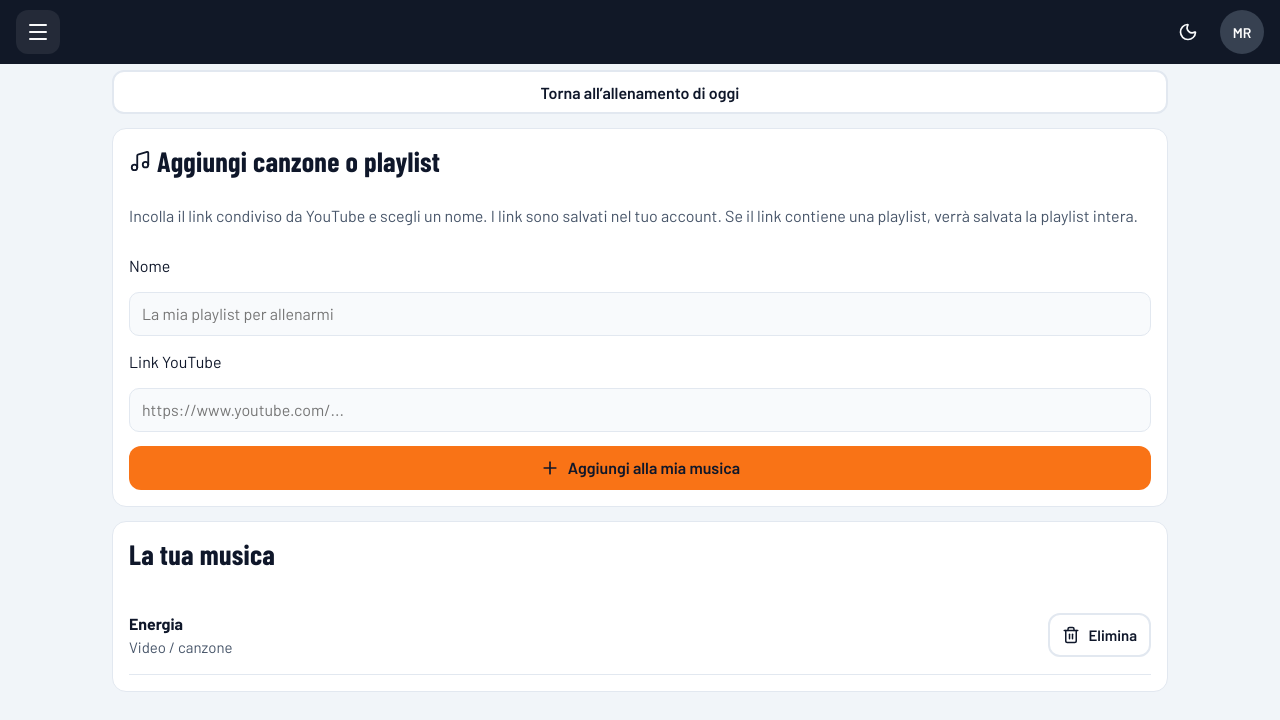
Test: Musica › shows a failed deletion inside the confirmation dialog
This screenshot has width=1280, height=720.
(page scrolled)
Click the button with aria-label "Elimina Energia".
click(1100, 635)  # box left=1048, top=613, right=1151, bottom=657
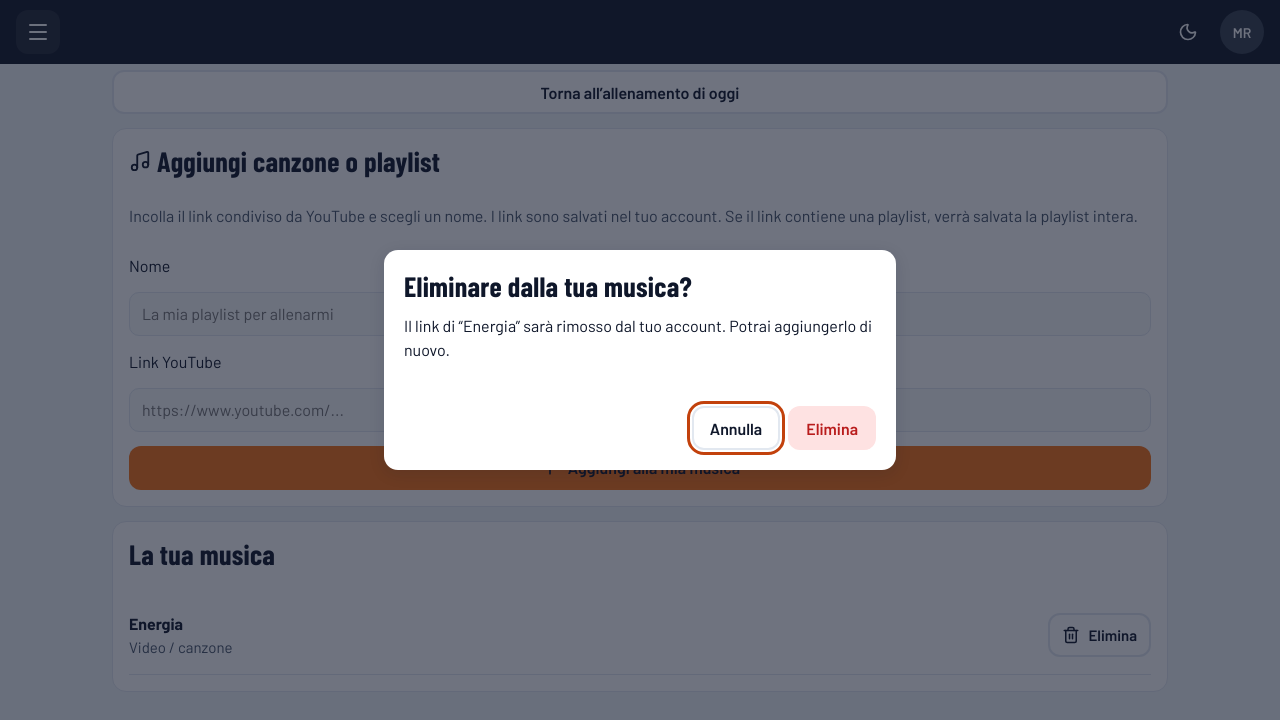
Click the button "Elimina".
click(832, 428)  # box left=788, top=406, right=876, bottom=450
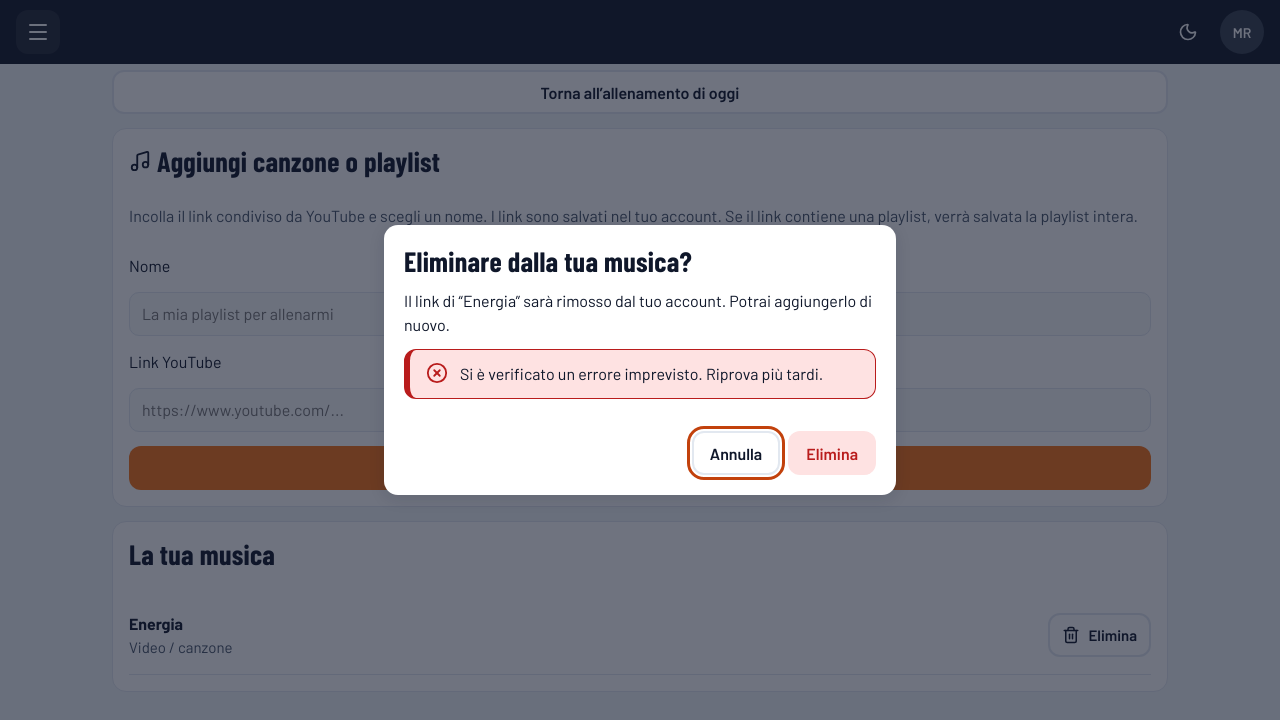
Result: the text "Si è verificato un errore imprevisto. Riprova più tardi." is shown at left=460, top=362, right=859, bottom=386
